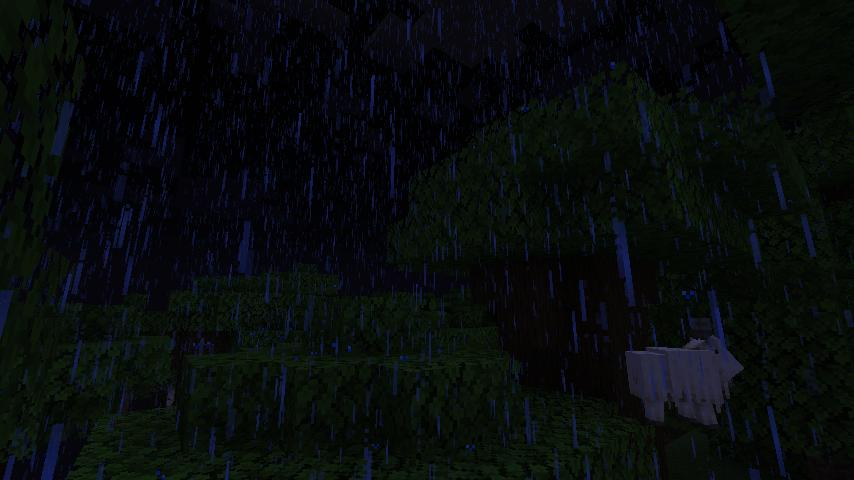goat: (621, 315, 745, 426)
